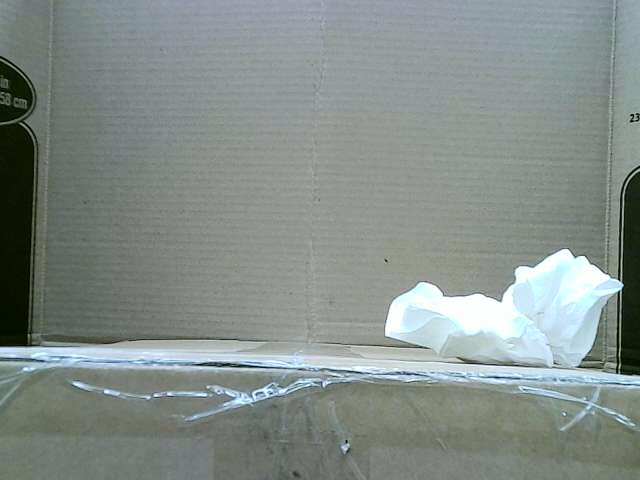Tissue: (384, 248, 623, 367)
